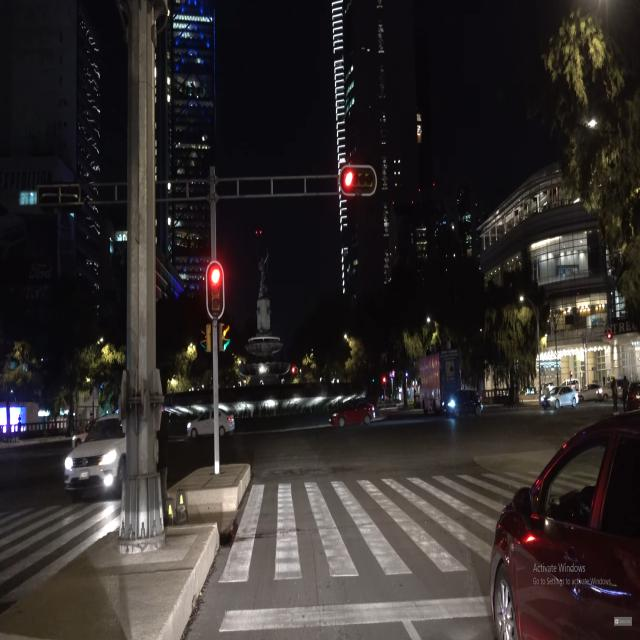headlights: (58, 442, 124, 480)
